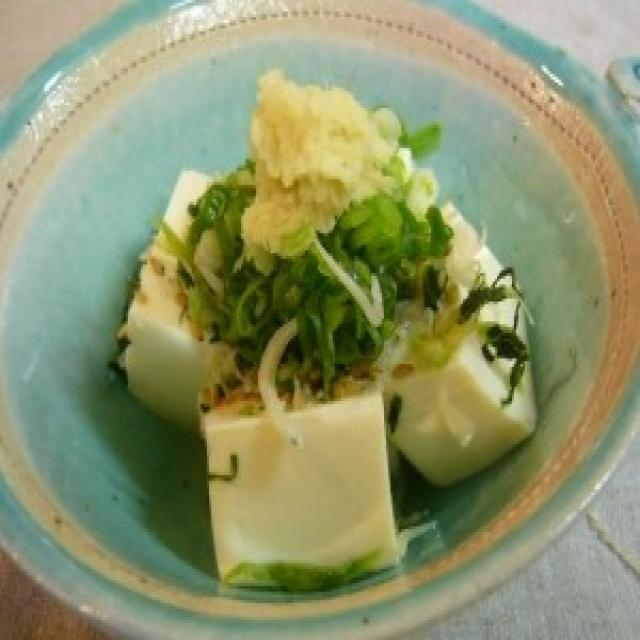豆腐料理: (230, 94, 640, 640)
